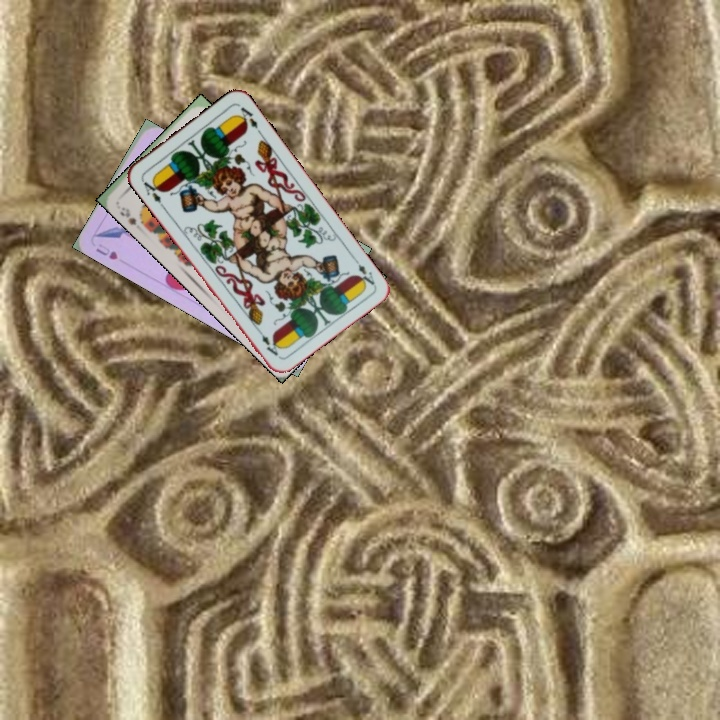EA: (137, 175, 167, 210), (348, 253, 377, 289)
HU: (92, 242, 120, 262)
S9: (115, 203, 150, 229)
